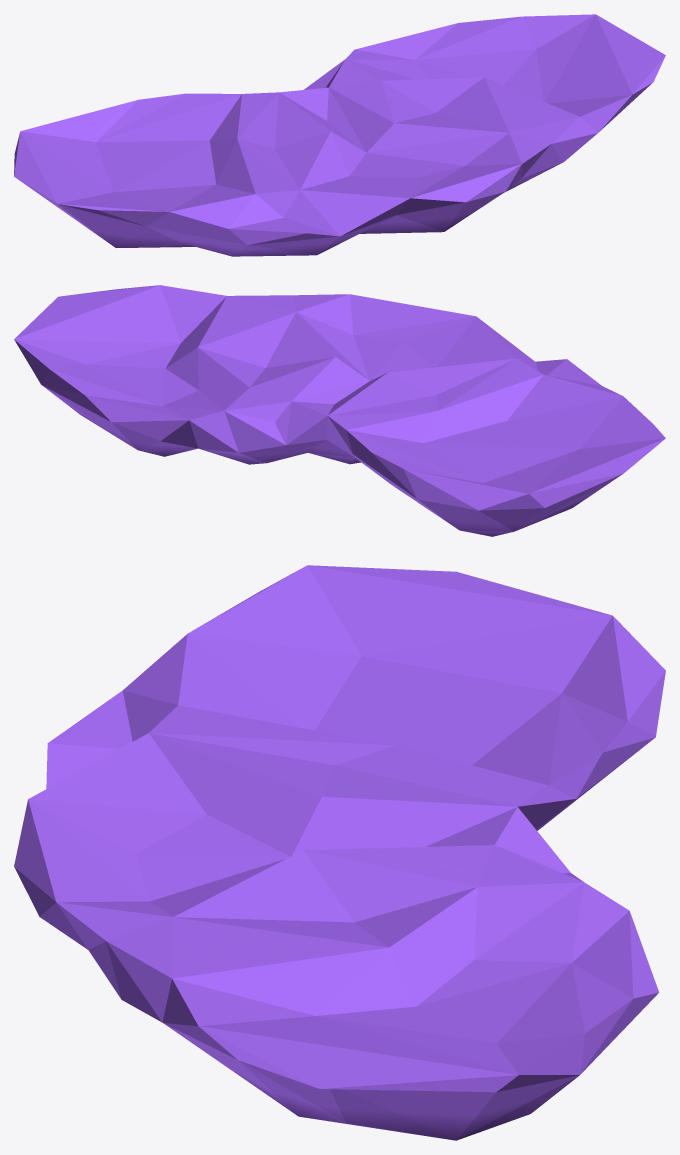
The model's file is SM_Coral_27.fbx.
3 views of the same model, one above another, from view 1: azimuth 30°, elevation 25°; view 2: azimuth 150°, elevation 25°; view 3: azimuth 270°, elevation 25° (orthographic). The views are drawn at different scales.
Parts seen in each view (by area): view 1: Coral_27; view 2: Coral_27; view 3: Coral_27.
Part boxes in pixels (left/top/right/bottom): Coral_27: left=14, top=14, right=665, bottom=256; Coral_27: left=14, top=285, right=665, bottom=536; Coral_27: left=14, top=565, right=665, bottom=1140.
Size of the model in its own units: 386 by 51.93 by 205.
